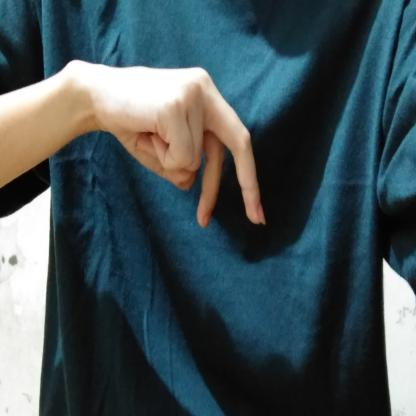run: (68, 57, 275, 234)
